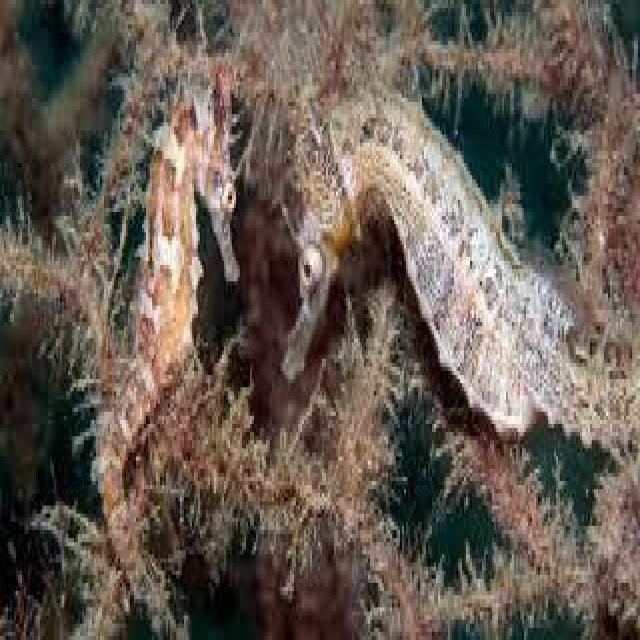seahorse: (280, 90, 576, 436), (102, 61, 238, 493)
